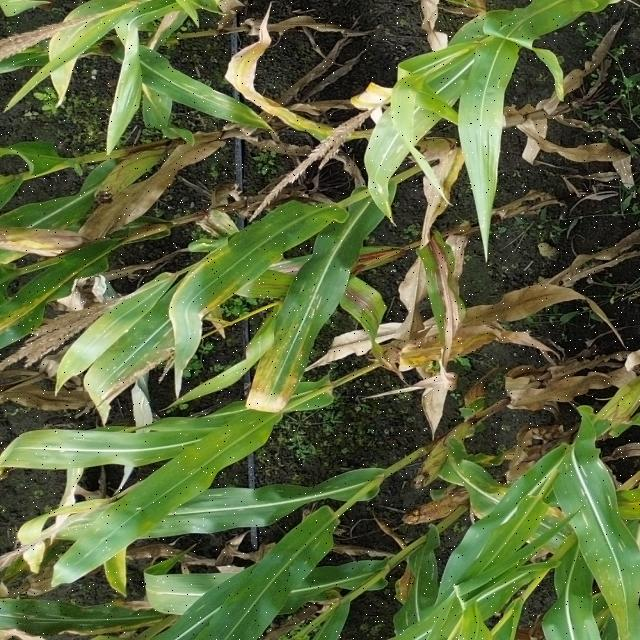gray-leaf-spot: (234, 252, 344, 414), (551, 464, 640, 640), (0, 592, 189, 640), (113, 487, 234, 544), (148, 78, 255, 126)
northern-leaf-blight: (436, 446, 564, 558), (238, 57, 360, 153)
southern-leaf-blight: (90, 318, 175, 396), (0, 267, 84, 335)
